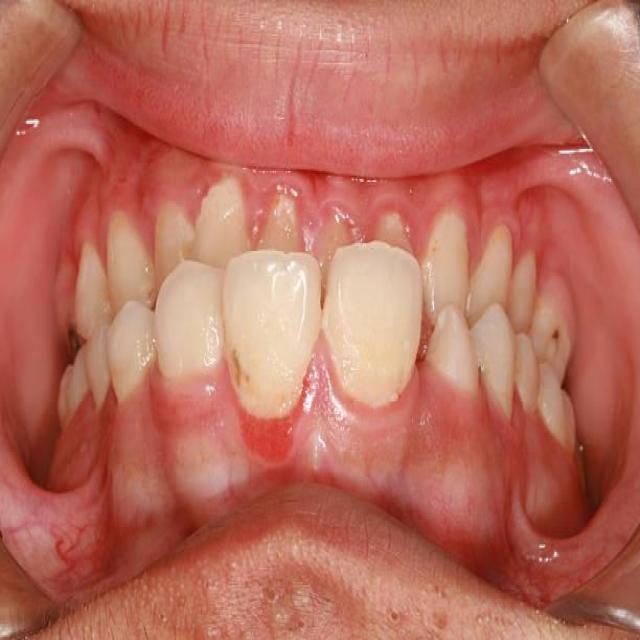caries: (538, 313, 576, 382), (61, 308, 94, 372)
